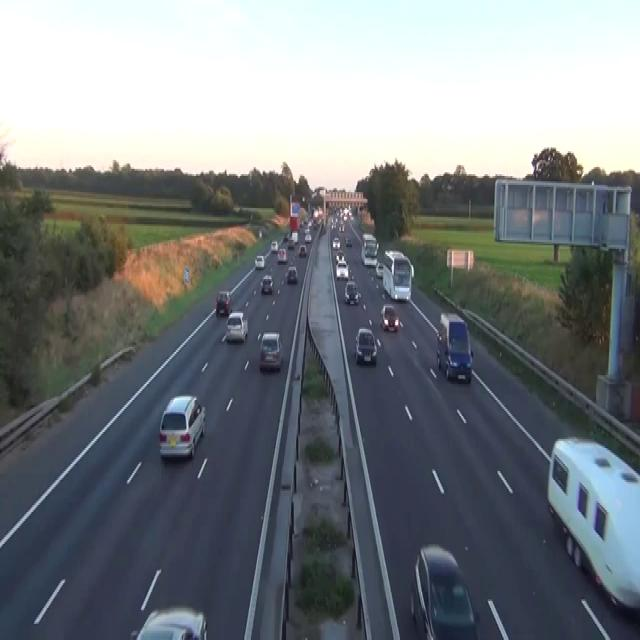Car: (409, 542, 478, 638), (158, 393, 205, 459), (436, 311, 473, 382), (129, 606, 207, 638), (259, 331, 283, 372), (354, 327, 377, 365), (225, 311, 248, 341), (382, 249, 403, 274), (380, 304, 399, 331), (215, 290, 231, 316), (344, 279, 360, 304), (260, 274, 273, 293), (335, 260, 348, 279), (285, 265, 297, 283), (362, 233, 376, 247), (277, 247, 287, 263), (254, 254, 265, 268), (375, 262, 383, 278), (298, 244, 307, 256), (332, 236, 340, 249), (335, 253, 345, 263), (270, 240, 278, 252), (345, 235, 352, 247), (312, 217, 320, 227), (287, 238, 294, 249), (304, 233, 311, 242), (233, 204, 240, 213), (280, 237, 287, 246), (338, 222, 344, 231), (320, 224, 326, 233), (283, 233, 288, 242), (258, 228, 262, 238)
Truck: (546, 436, 639, 610), (382, 249, 414, 300), (361, 233, 378, 267)
